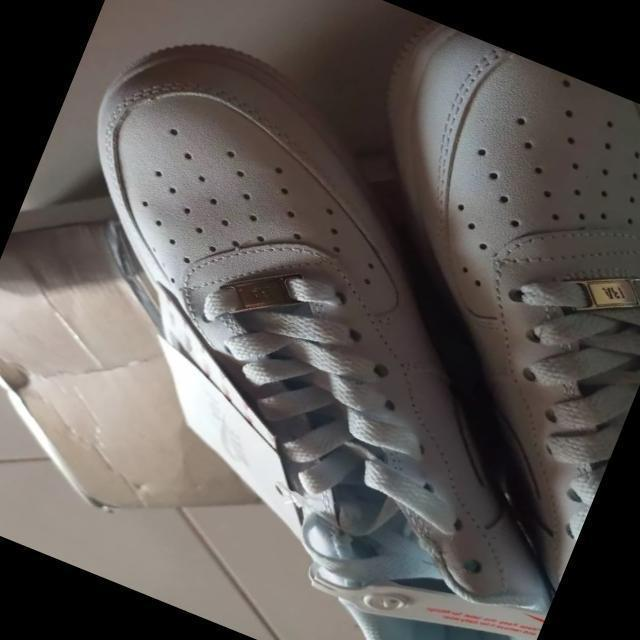nike fake air force: (0, 10, 640, 640), (213, 10, 640, 621)
